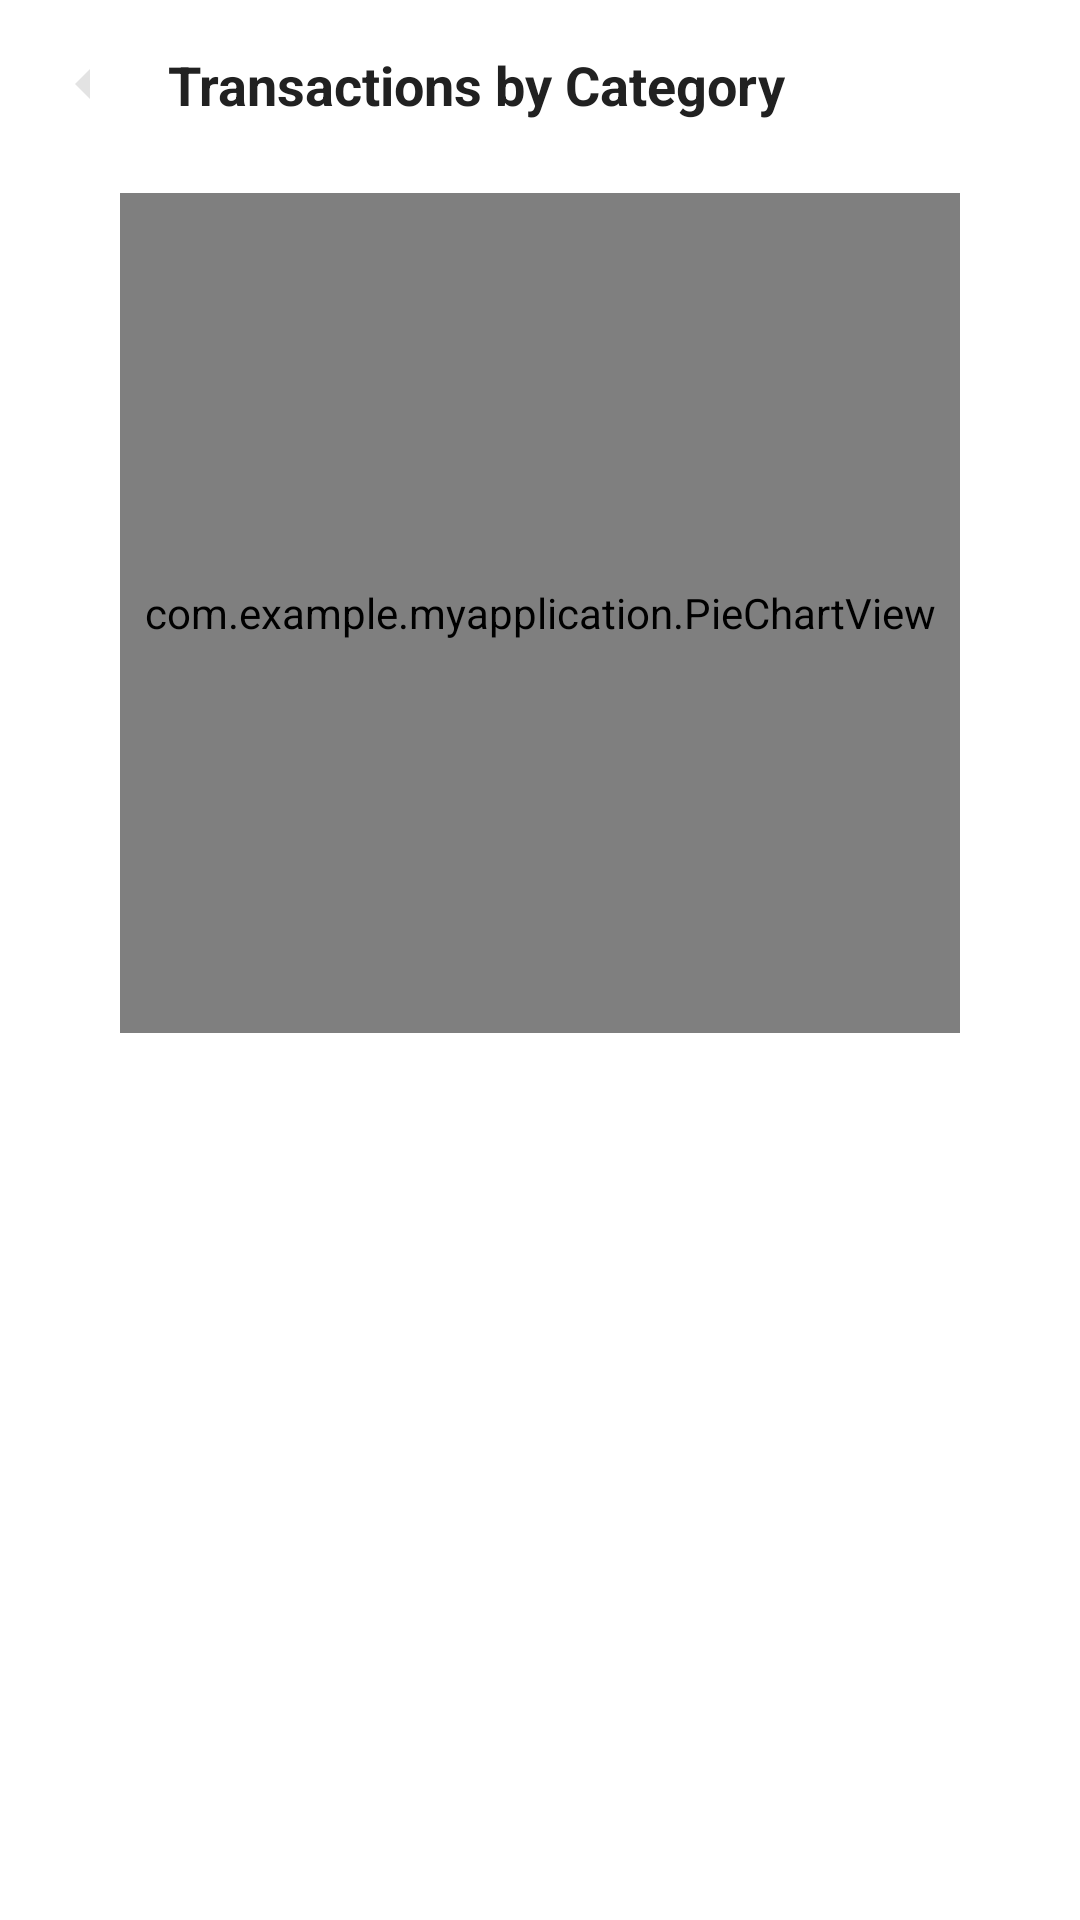

Where to tap for icons on this 1080*1920 app screen, as (x=x, y=y):
Back: (x=83, y=84)
